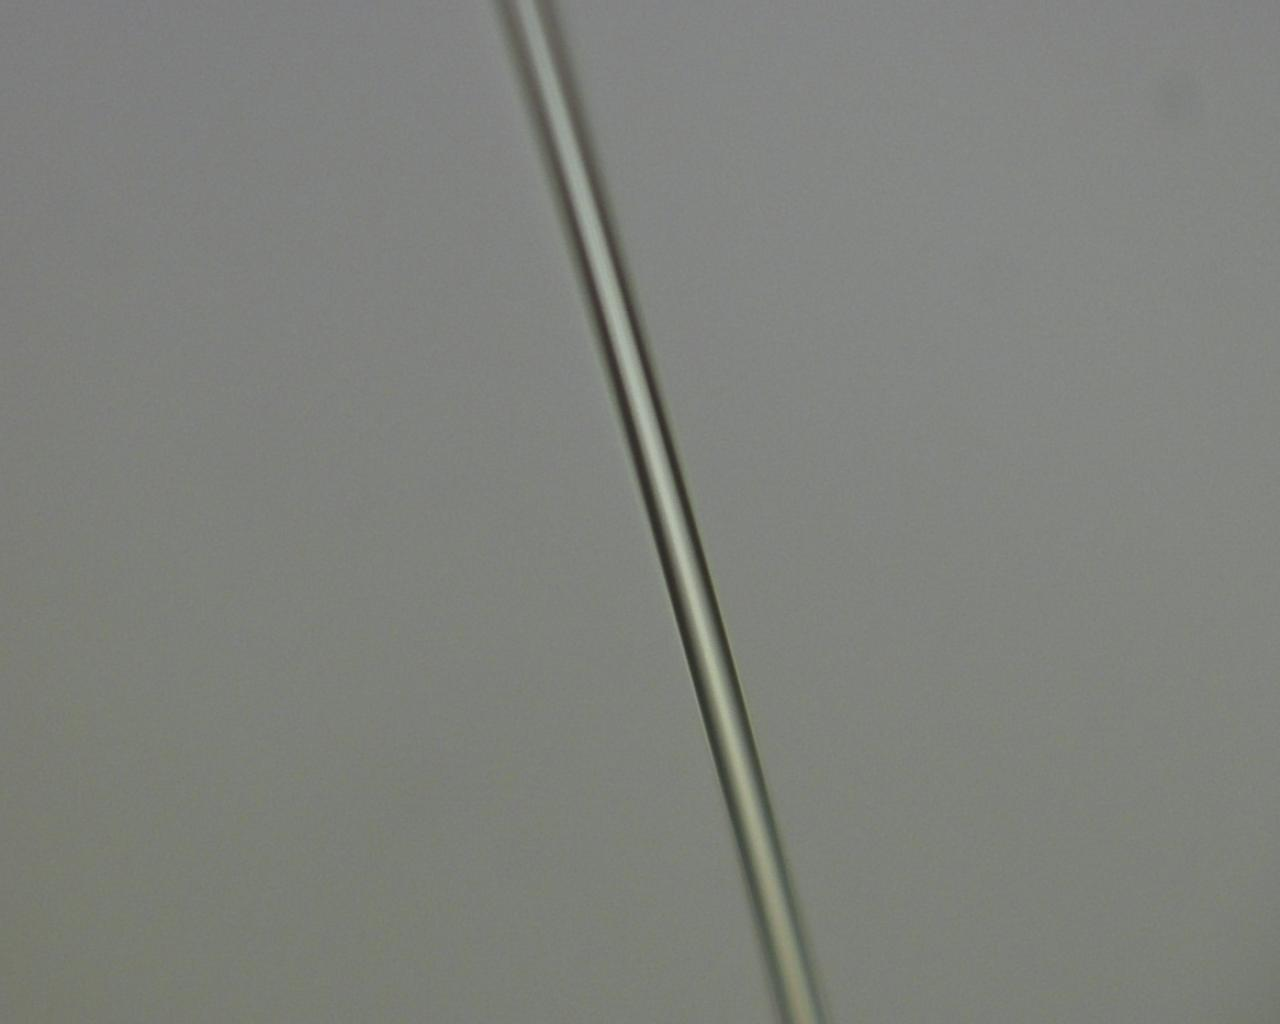fiber: (652, 389, 829, 1024), (297, 0, 371, 389)
